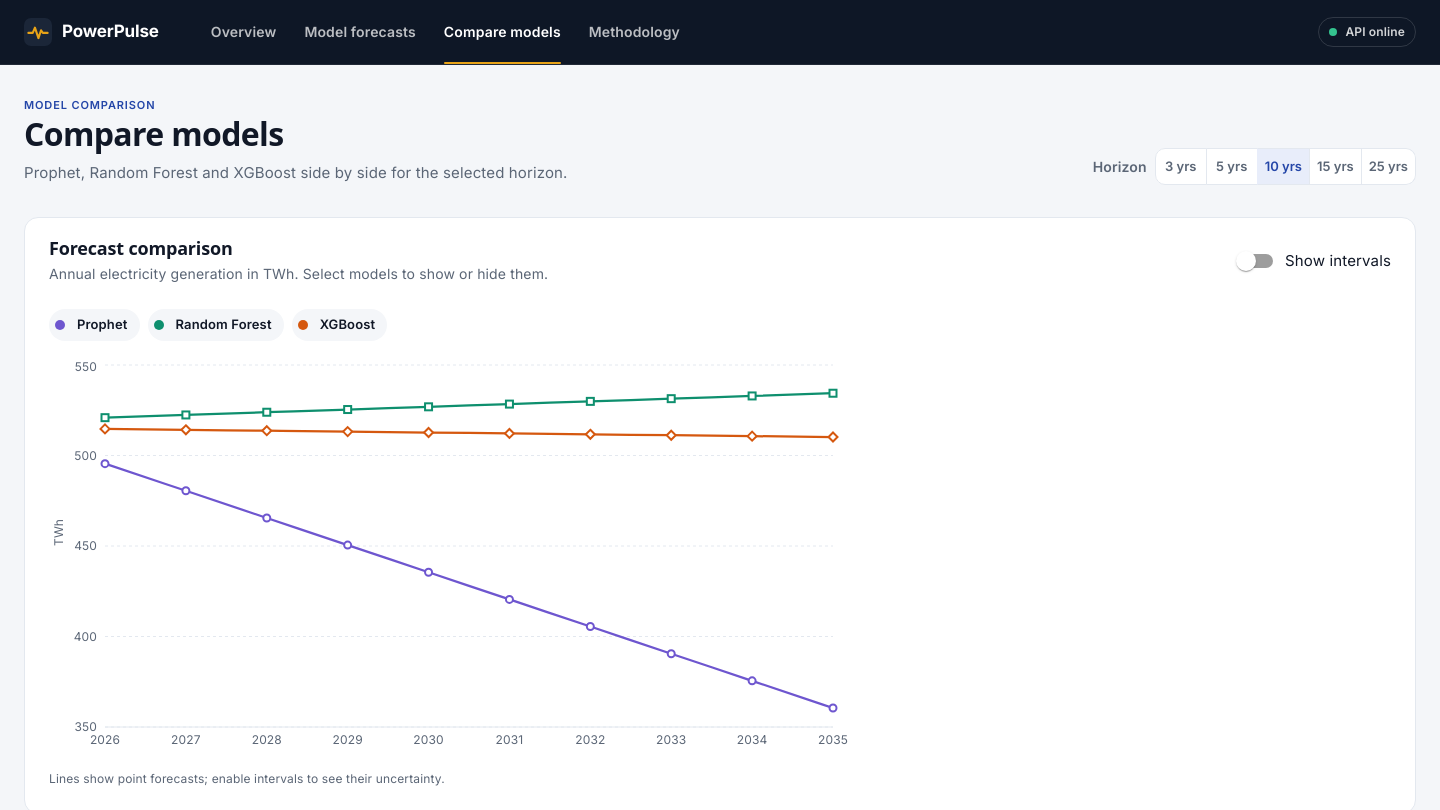
Test: application › compares models: summary from the API, toggling series and intervals
Click the button "Prophet": (94, 325) [49,309,140,341]
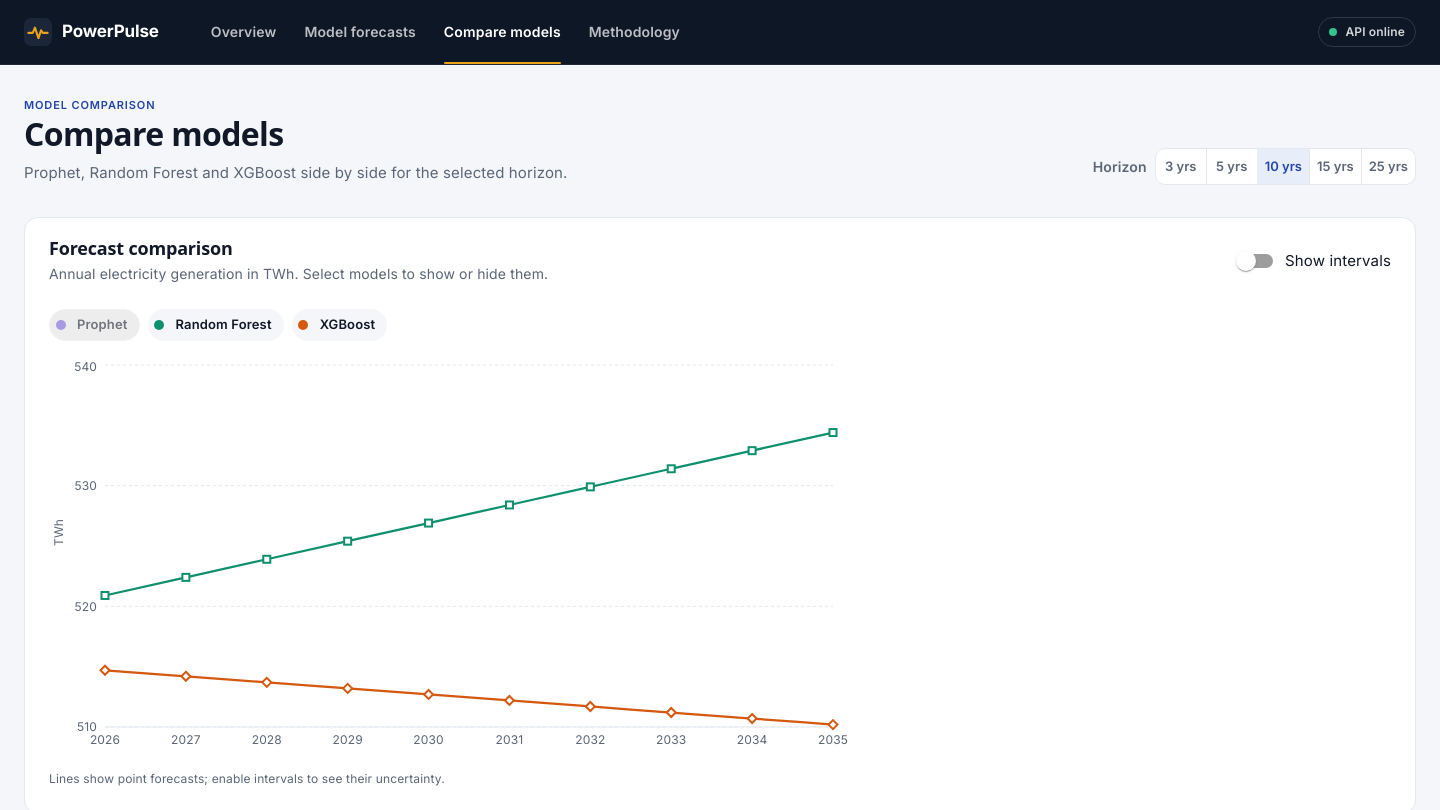
Now the button "Prophet" is not pressed, box [49,309,140,341]
Click the switch labelled "Show intervals": (1314, 261) [1236,251,1391,271]
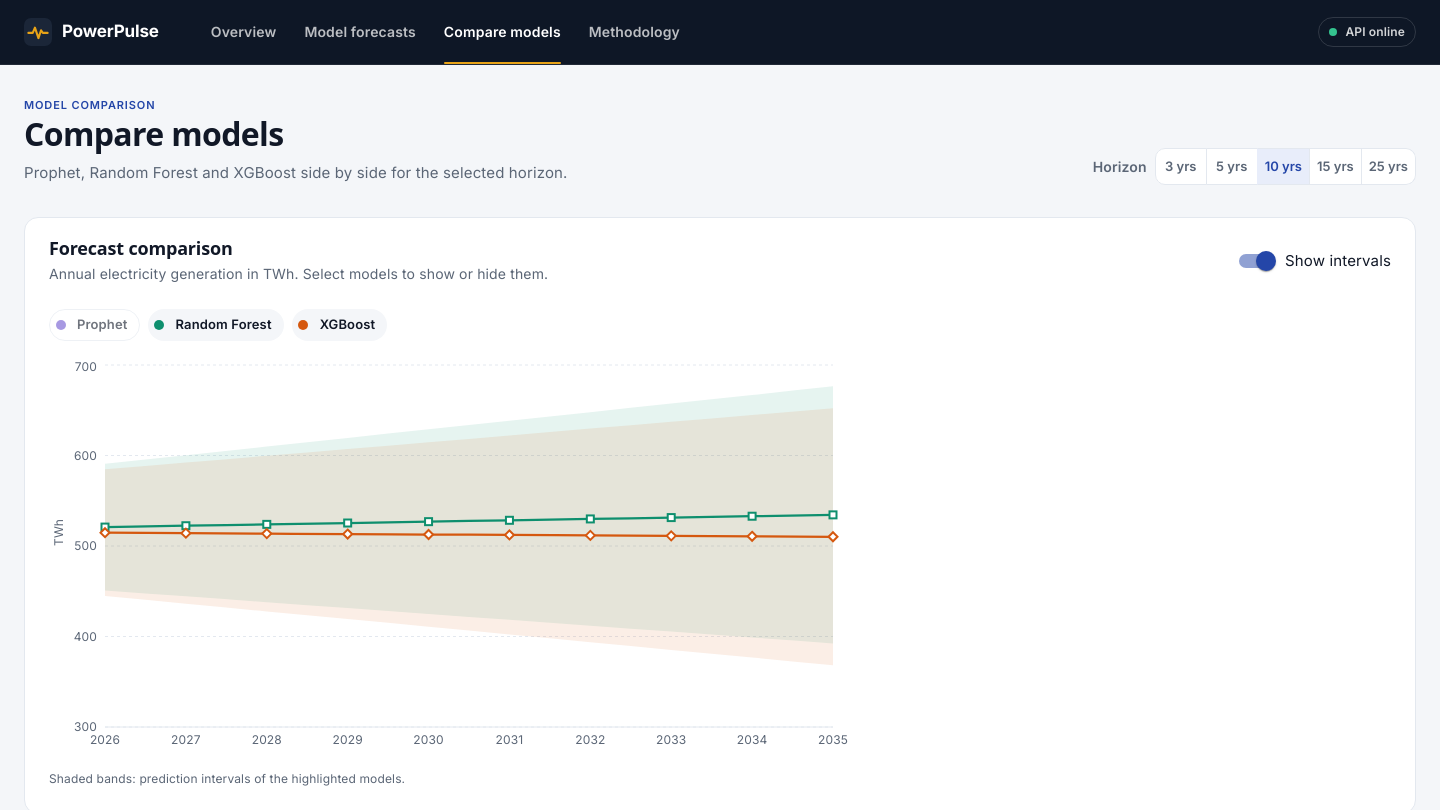
Now the text "Shaded bands: prediction intervals" is shown, box [49,771,405,786]
